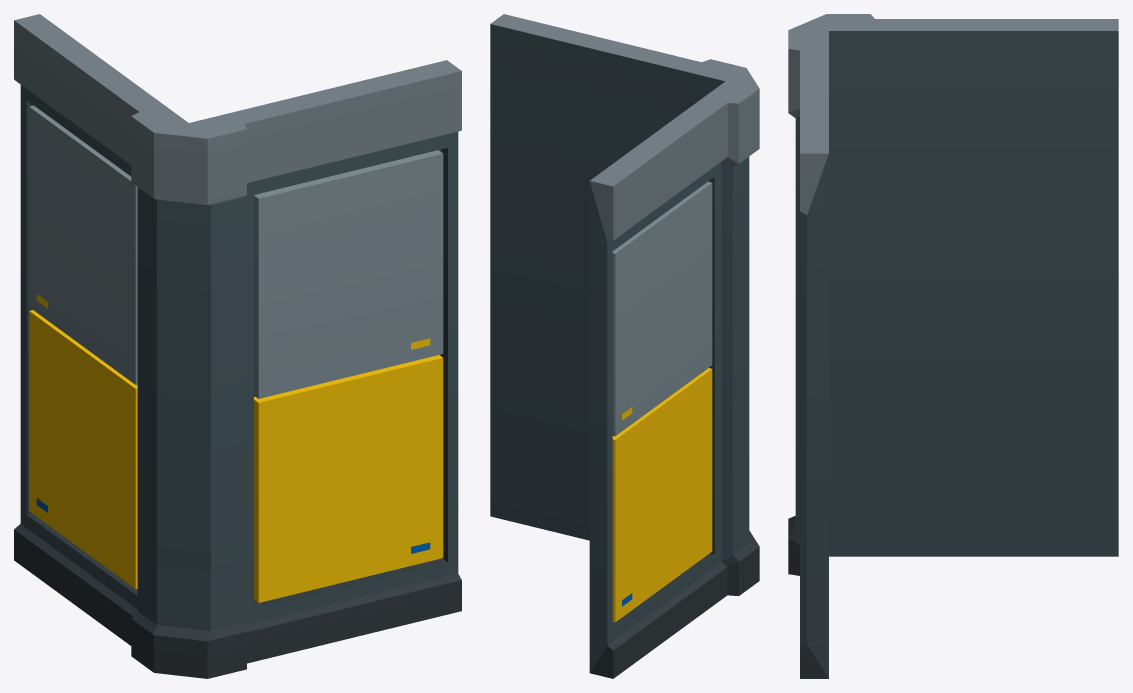
The model's file is Wall_type_C_014.fbx.
3 views of the same model, side by side, from view 1: azimuth 30°, elevation 25°; view 2: azimuth 150°, elevation 25°; view 3: azimuth 270°, elevation 25° (orthographic). The views are drawn at different scales.
Visible parts, largest first — view 1: Wall_type_C_014; view 2: Wall_type_C_014; view 3: Wall_type_C_014.
Part boxes in pixels (bbox=[...]): Wall_type_C_014: bbox=[14, 14, 461, 678]; Wall_type_C_014: bbox=[490, 14, 759, 678]; Wall_type_C_014: bbox=[788, 14, 1118, 678].
Size of the model in its own units: 228 by 228 by 400.
